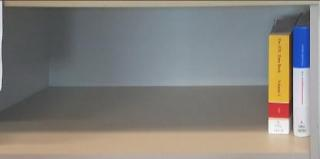book-spine: (268, 34, 290, 135), (293, 26, 311, 138)
